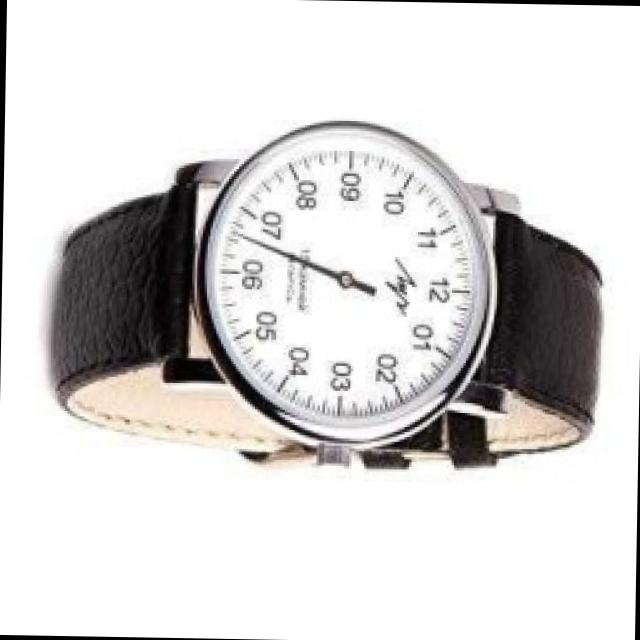saat: (41, 105, 620, 483)
